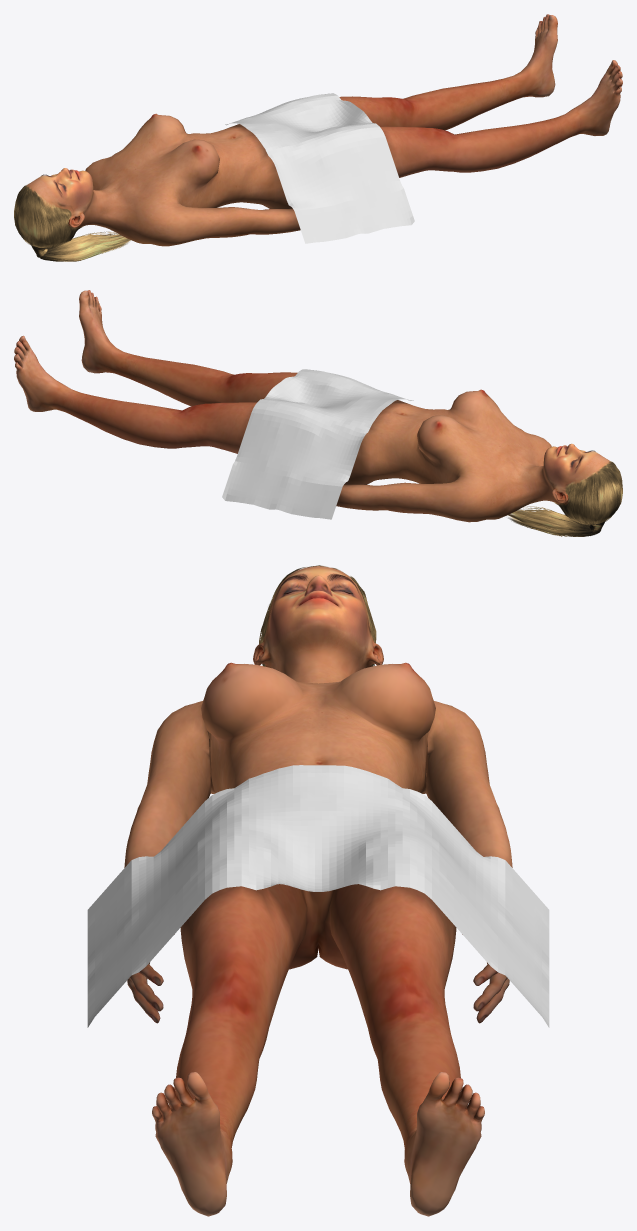
Rendered from kundin_lie_h9.glb.
The picture shows the model from 3 angles, top to bottom: view 1: azimuth 30°, elevation 25°; view 2: azimuth 150°, elevation 25°; view 3: azimuth 270°, elevation 25°; orthographic projection. The views are drawn at different scales.
Visible parts, largest first — view 1: body, towel, hair; view 2: body, towel, hair; view 3: body, towel.
Part boxes in pixels (left/top/right/bottom): body: left=26, top=14, right=622, bottom=246; towel: left=225, top=93, right=414, bottom=243; hair: left=14, top=185, right=130, bottom=261; body: left=14, top=290, right=610, bottom=522; towel: left=222, top=369, right=413, bottom=519; hair: left=508, top=461, right=622, bottom=536; body: left=124, top=566, right=512, bottom=1216; towel: left=87, top=765, right=549, bottom=1027.
Size of the model in its own units: 1.77 by 0.3136 by 0.62.
Materials: 4 (4 with a texture image).
